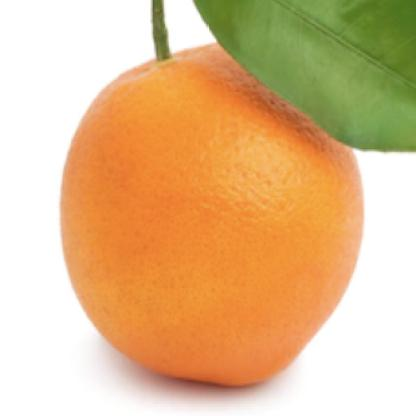fresh: (60, 30, 361, 390)
